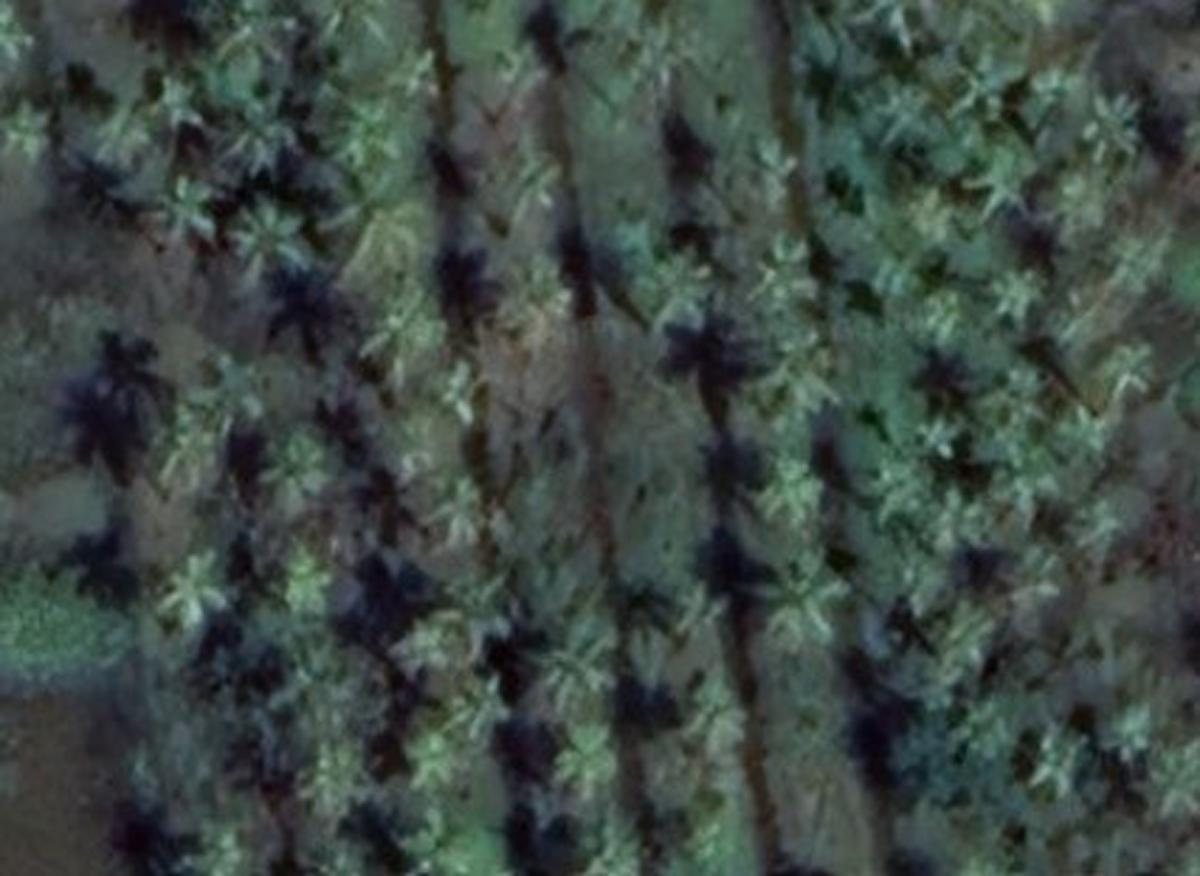coconut: (749, 326, 856, 436), (746, 540, 856, 642), (329, 163, 425, 276), (346, 284, 450, 388), (630, 242, 723, 346), (439, 571, 532, 667), (214, 197, 312, 278), (188, 2, 295, 76), (318, 90, 414, 169), (290, 743, 377, 830), (543, 619, 622, 712), (735, 138, 811, 233), (926, 599, 1008, 687), (143, 540, 225, 625), (757, 453, 833, 543), (250, 540, 332, 622), (954, 140, 1033, 225), (388, 802, 478, 876), (867, 76, 940, 166), (214, 95, 298, 171), (969, 363, 1047, 442), (507, 267, 585, 346), (428, 473, 504, 554), (749, 233, 828, 309), (543, 721, 628, 791), (1076, 90, 1157, 163), (402, 718, 478, 794), (253, 433, 332, 504), (681, 664, 752, 743), (949, 50, 1022, 126), (92, 90, 163, 166), (977, 436, 1050, 509), (1140, 743, 1200, 828), (445, 678, 518, 746), (149, 180, 225, 245), (949, 698, 1019, 768), (997, 540, 1067, 605), (487, 45, 552, 115), (856, 459, 918, 532), (1028, 735, 1092, 805), (509, 154, 577, 219), (146, 70, 214, 135), (1098, 335, 1163, 402), (1045, 402, 1115, 464), (1070, 487, 1138, 549), (1104, 236, 1166, 304), (923, 484, 985, 552), (921, 276, 974, 352), (1092, 704, 1152, 771), (380, 47, 445, 104), (667, 580, 732, 636), (430, 360, 487, 422), (985, 267, 1042, 323), (1030, 56, 1084, 112), (915, 402, 969, 456)
